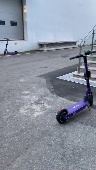beam: (56, 50, 96, 124), (1, 36, 19, 56)
